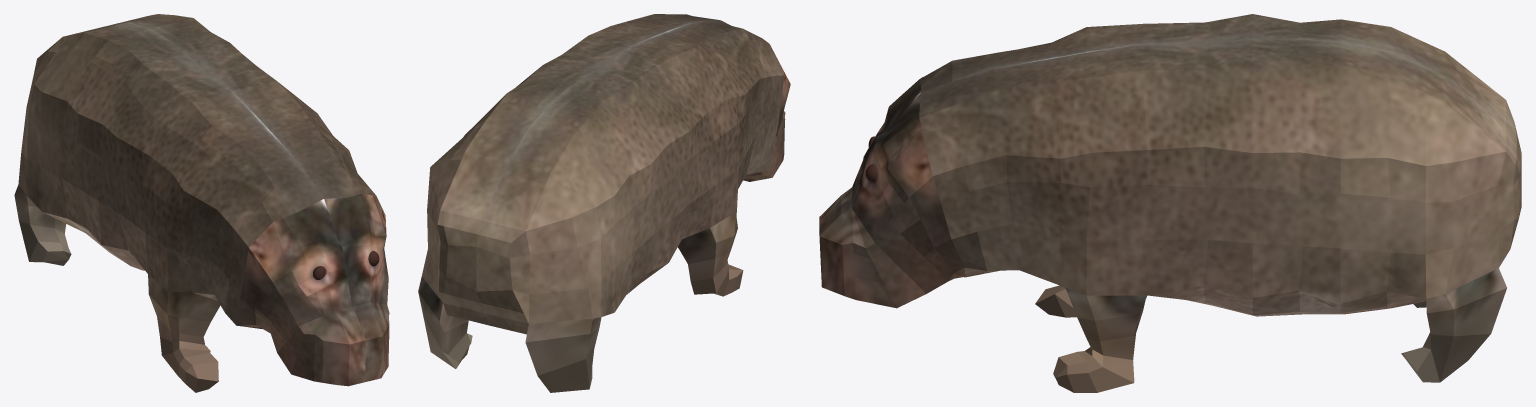
Rendered from HippoMonster.fbx.
3 renders of one model, left to right at view 1: azimuth 30°, elevation 25°; view 2: azimuth 150°, elevation 25°; view 3: azimuth 270°, elevation 25°, orthographic. The views are drawn at different scales.
Parts seen in each view (by area): view 1: HippoMonster; view 2: HippoMonster; view 3: HippoMonster.
Part boxes in pixels (left/top/right/bottom): HippoMonster: left=14, top=14, right=389, bottom=392; HippoMonster: left=418, top=14, right=790, bottom=392; HippoMonster: left=819, top=14, right=1521, bottom=392.
Bounding box in the file's own units: 151 × 212 × 429.
